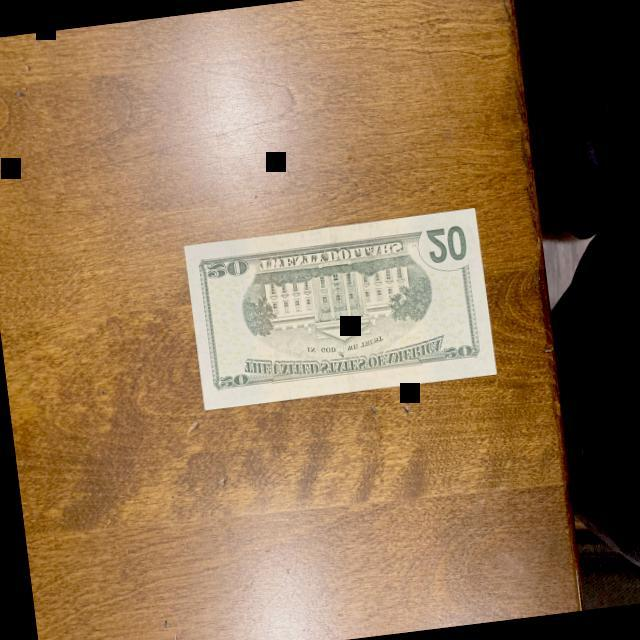twenty: (182, 205, 496, 412)
